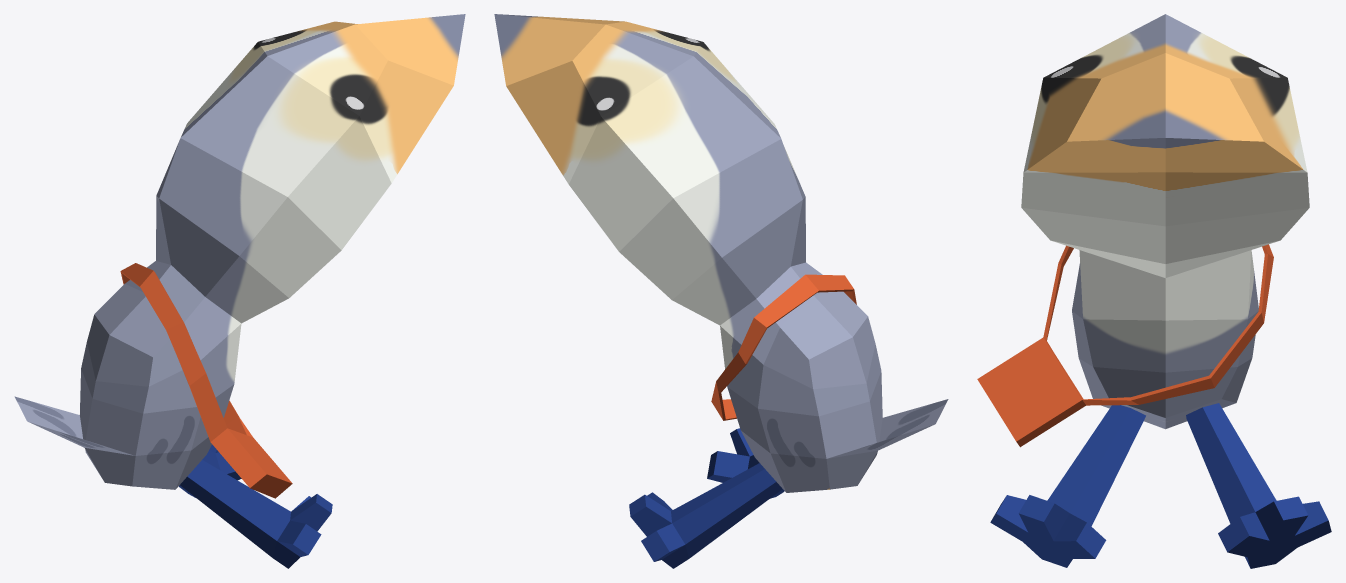
The model's file is Char_Bird4.fbx.
The picture shows the model from 3 angles, left to right: view 1: azimuth 30°, elevation 25°; view 2: azimuth 150°, elevation 25°; view 3: azimuth 270°, elevation 25°; orthographic projection. The views are drawn at different scales.
Parts seen in each view (by area): view 1: 立方体.004; view 2: 立方体.004; view 3: 立方体.004.
Part boxes in pixels (left/top/right/bottom): 立方体.004: left=14, top=14, right=465, bottom=568; 立方体.004: left=494, top=14, right=948, bottom=568; 立方体.004: left=977, top=14, right=1331, bottom=568.
Size of the model in its own units: 113 by 118 by 65.46.
3 materials, 1 textured.
